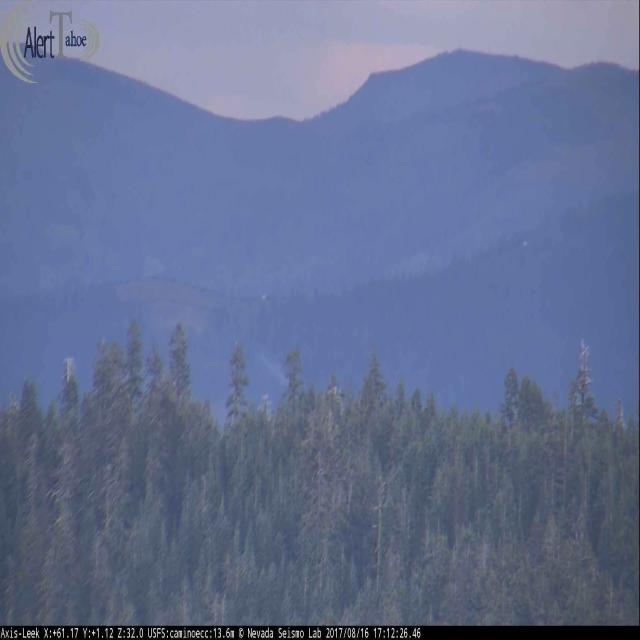smoke: (258, 336, 295, 396)
